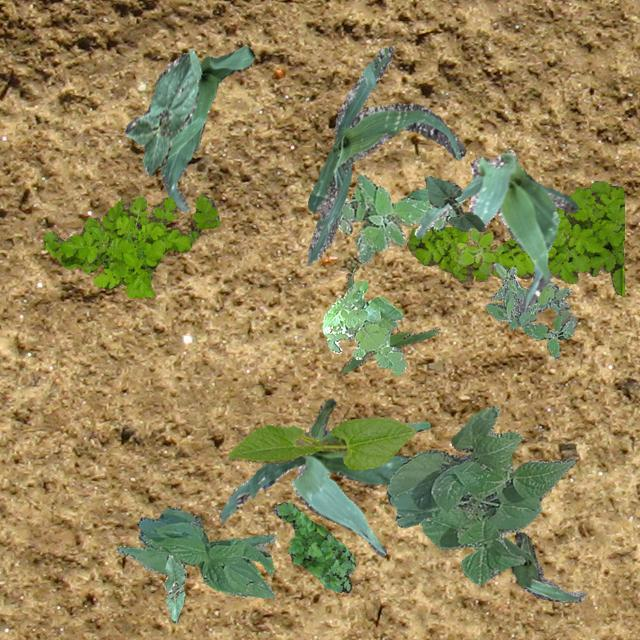crop: (306, 45, 464, 264), (386, 406, 574, 584), (218, 398, 428, 556), (414, 148, 576, 312), (160, 45, 254, 212), (116, 507, 274, 598), (339, 272, 438, 374), (227, 416, 416, 468), (124, 48, 200, 174), (502, 532, 584, 602), (424, 176, 484, 230), (163, 554, 184, 622)
weed: (406, 180, 624, 294), (42, 192, 220, 298), (336, 174, 456, 262), (322, 280, 406, 374), (272, 501, 354, 592), (484, 262, 570, 328), (520, 308, 576, 358), (456, 226, 502, 274)
